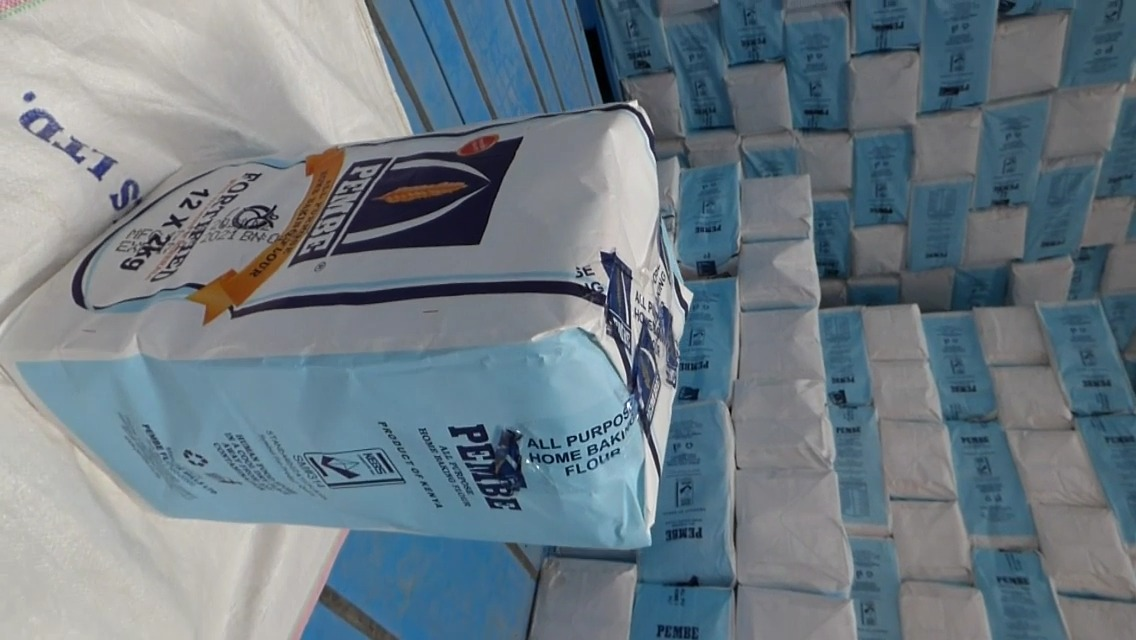wheat_flour_blue_label: (3, 105, 689, 547)
